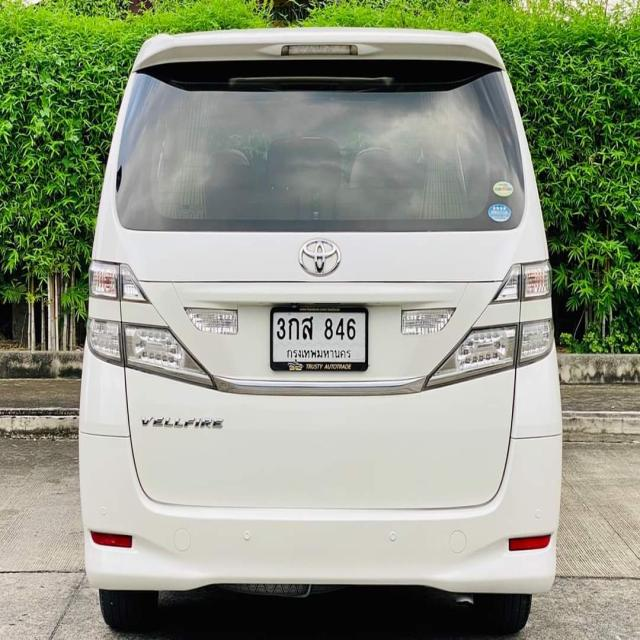license_plate: (269, 302, 369, 372)
